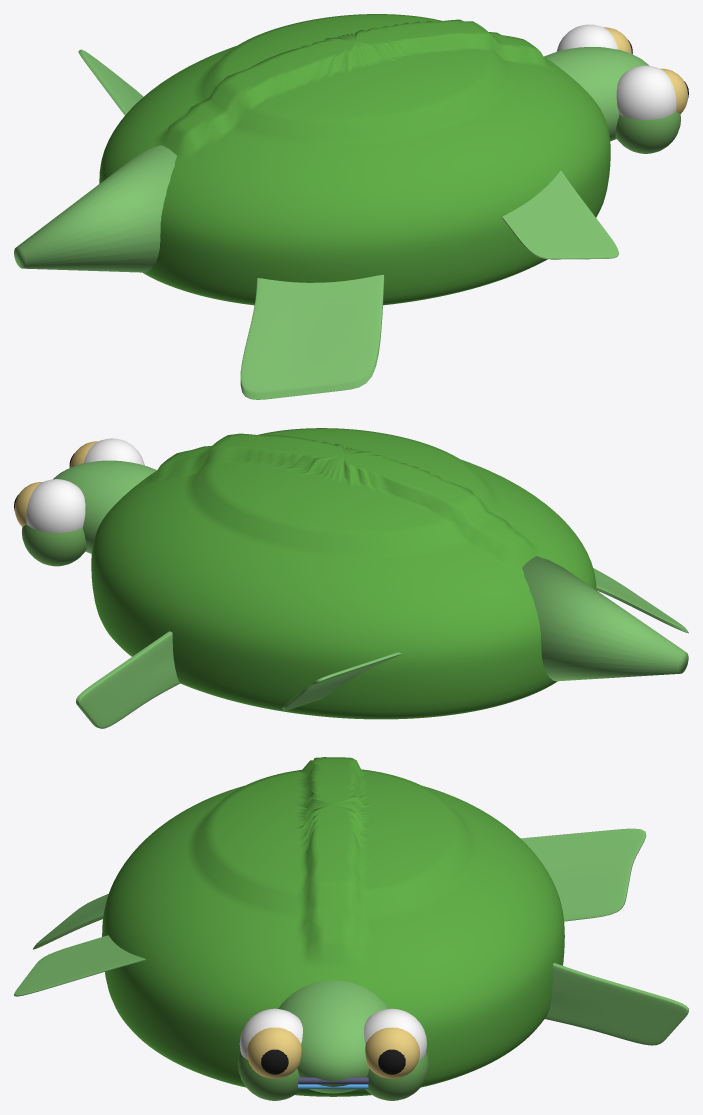
Rendered from fish4.glb.
3 views of the same model, one above another, from view 1: azimuth 30°, elevation 25°; view 2: azimuth 150°, elevation 25°; view 3: azimuth 270°, elevation 25° (orthographic). The views are drawn at different scales.
Visible parts, largest first — view 1: TurtleShell, RightBackFlipper, TurtleTail, RightFrontFlipper, TurtleHead, TurtleEye.R, TurtleLowerEyelid.R, LeftBackFlipper, TurtleEye.L; view 2: TurtleShell, TurtleTail, LeftFrontFlipper, TurtleHead, TurtleEye.L, TurtleLowerEyelid.L, LeftBackFlipper, RightBackFlipper, TurtleEye.R, TurtleIris.L; view 3: TurtleShell, LeftBackFlipper, TurtleHead, LeftFrontFlipper, RightFrontFlipper, TurtleIris.L, TurtleIris.R, TurtleLowerEyelid.L, TurtleLowerEyelid.R, TurtleEye.R, TurtleEye.L, RightBackFlipper (+2 smaller).
Boxes of the visible parts, x1,y1,x2,y2 form: TurtleShell: (99,14,610,305); RightBackFlipper: (240,274,384,399); TurtleTail: (14,145,176,272); RightFrontFlipper: (502,170,618,259); TurtleHead: (544,47,649,141); TurtleEye.R: (616,65,676,119); TurtleLowerEyelid.R: (615,111,680,153); LeftBackFlipper: (78,49,143,115); TurtleEye.L: (556,24,618,51); TurtleShell: (91,428,596,719); TurtleTail: (522,556,688,681); LeftFrontFlipper: (76,631,180,728); TurtleHead: (53,460,156,553); TurtleEye.L: (26,479,85,532); TurtleLowerEyelid.L: (22,524,86,566); LeftBackFlipper: (282,652,401,710); RightBackFlipper: (593,568,688,633); TurtleEye.R: (84,438,144,465); TurtleIris.L: (14,482,42,526); TurtleShell: (102,757,564,1096); LeftBackFlipper: (520,828,646,921); TurtleHead: (278,980,388,1093); LeftFrontFlipper: (545,963,688,1045); RightFrontFlipper: (14,935,145,996); TurtleIris.L: (365,1027,419,1078); TurtleIris.R: (247,1027,301,1078); TurtleLowerEyelid.L: (365,1051,428,1100); TurtleLowerEyelid.R: (238,1051,301,1100); TurtleEye.R: (239,1008,302,1059); TurtleEye.L: (364,1008,427,1059); RightBackFlipper: (33,894,108,949).
Size of what is drawn, in the model's own units: 3.31 by 1.05 by 2.88.
